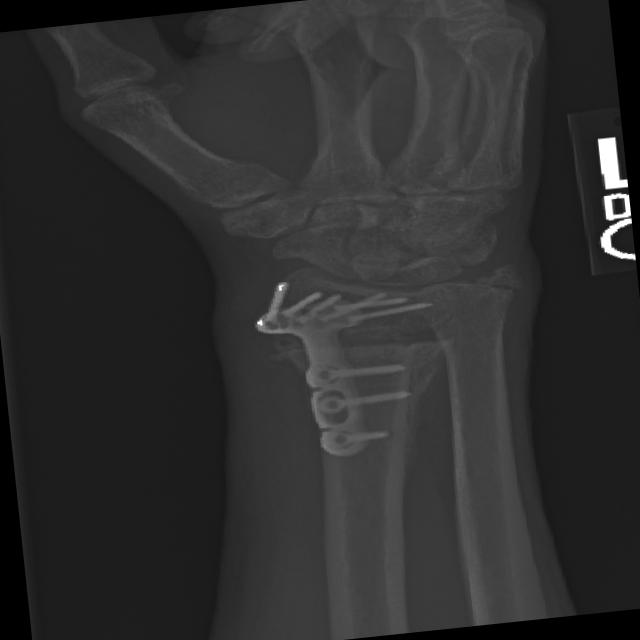wrist positive: (255, 307, 477, 399), (460, 238, 552, 322)
